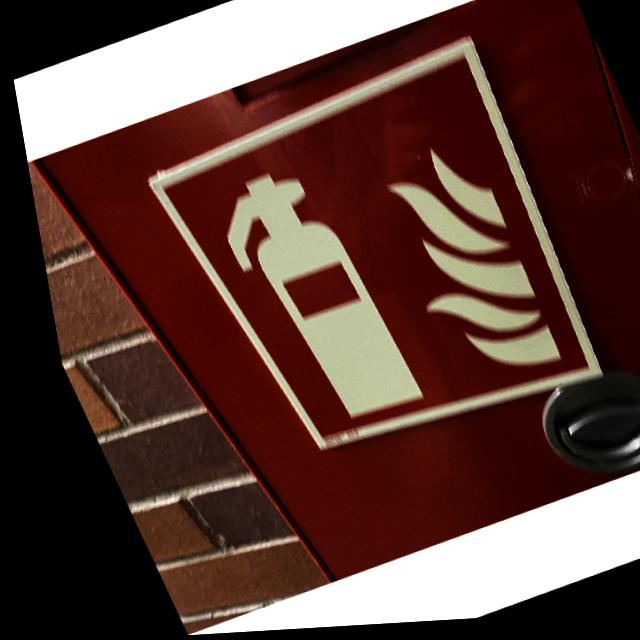fire extinguisher: (116, 36, 622, 496)
